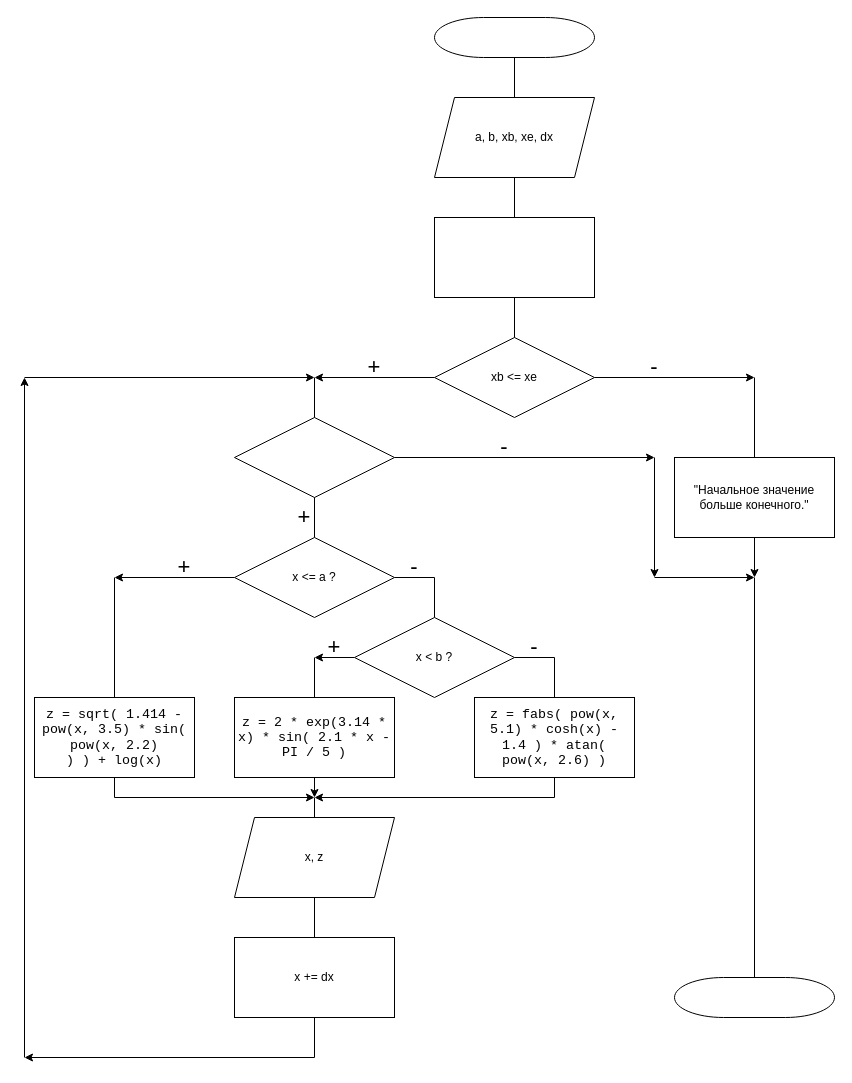
Image size: 852x1083. Some labels were removed from this diagram. Each missing label, with the centre of its shape:
"x <= xe" belongs at (x=314, y=457).
"x = xb" belongs at (x=514, y=257).
"Конец" belongs at (x=754, y=997).
"Начало" belongs at (x=514, y=37).
